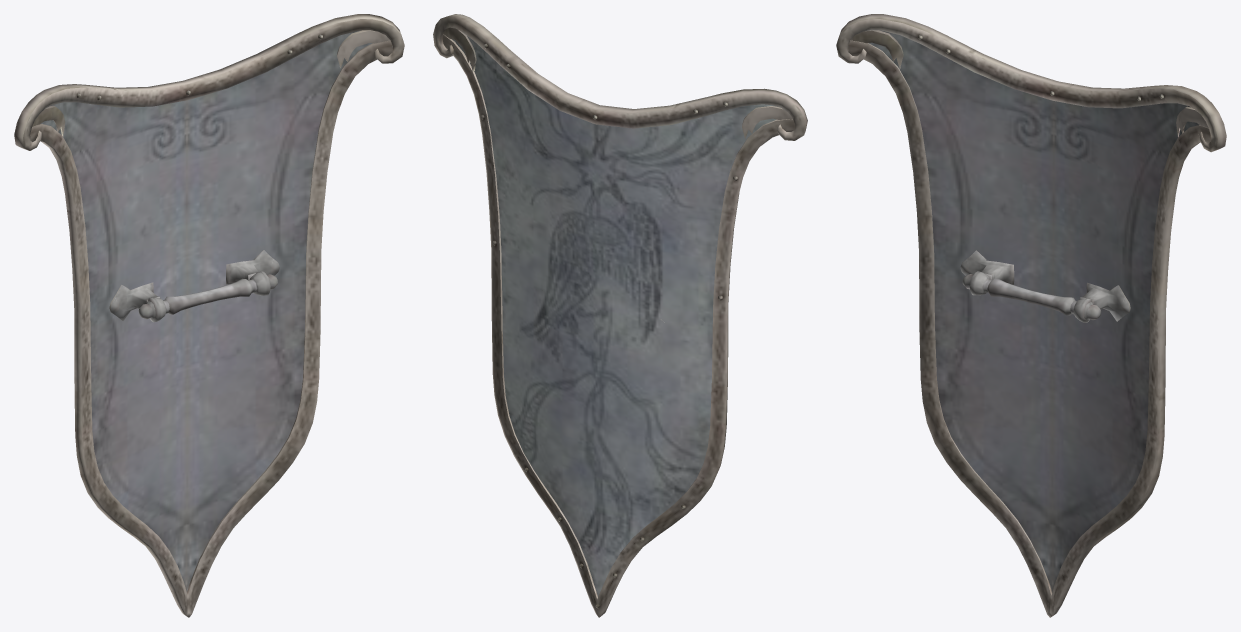
The model's file is weapon-wp_a_2224.glb.
3 renders of one model, left to right at view 1: azimuth 30°, elevation 25°; view 2: azimuth 150°, elevation 25°; view 3: azimuth 330°, elevation 25°, orthographic. The views are drawn at different scales.
Parts seen in each view (by area): view 1: wp_a_2224_mesh; view 2: wp_a_2224_mesh; view 3: wp_a_2224_mesh.
Part boxes in pixels (x1=…): wp_a_2224_mesh: x1=14, y1=14, x2=404, y2=617; wp_a_2224_mesh: x1=433, y1=14, x2=807, y2=617; wp_a_2224_mesh: x1=836, y1=14, x2=1226, y2=617.
Bounding box in the file's own units: 0.9888 × 1.39 × 0.1466.
Materials: 1 (1 with a texture image).
